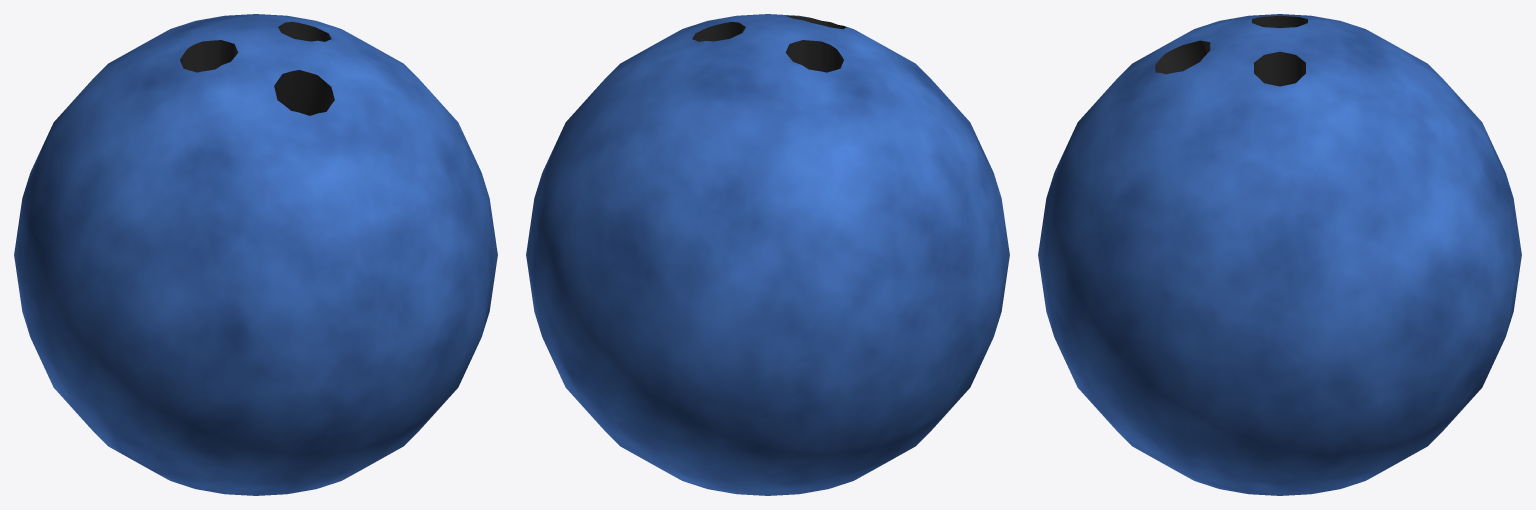
The model's file is bowlingBall.fbx.
3 renders of one model, left to right at view 1: azimuth 30°, elevation 25°; view 2: azimuth 150°, elevation 25°; view 3: azimuth 270°, elevation 25°, orthographic.
Visible parts, largest first — view 1: bowlingBall; view 2: bowlingBall; view 3: bowlingBall.
Part boxes in pixels (bbox=[...]): bowlingBall: bbox=[14, 14, 497, 495]; bowlingBall: bbox=[526, 14, 1009, 495]; bowlingBall: bbox=[1038, 14, 1521, 495].
Bounding box in the file's own units: 30.4 × 30.4 × 30.4.
Materials: 1 (1 with a texture image).
